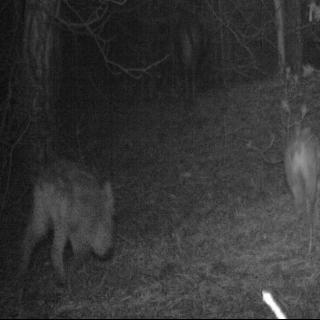Pig: (7, 59, 139, 312), (254, 74, 320, 238)
